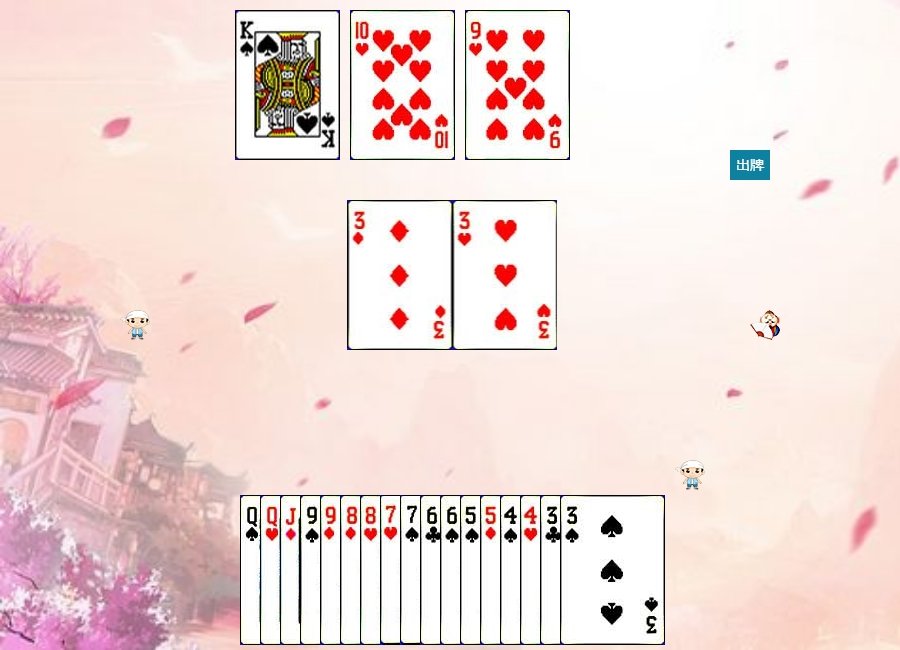10~3: (350, 10, 455, 160)
11~1: (280, 495, 385, 645)
12~3: (260, 495, 365, 645)
12~4: (240, 495, 345, 645)
13~4: (235, 10, 340, 160)
3~1: (348, 200, 453, 350)
3~2: (540, 495, 645, 645)
3~3: (453, 200, 558, 350)
3~4: (560, 495, 665, 645)
4~3: (520, 495, 625, 645)
4~4: (500, 495, 605, 645)
5~1: (480, 495, 585, 645)
5~4: (460, 495, 565, 645)
6~2: (420, 495, 525, 645)
6~4: (440, 495, 545, 645)
7~3: (380, 495, 485, 645)
7~4: (400, 495, 505, 645)
8~1: (340, 495, 445, 645)
8~3: (360, 495, 465, 645)
9~1: (320, 495, 425, 645)
9~3: (465, 10, 570, 160)
9~4: (300, 495, 405, 645)
